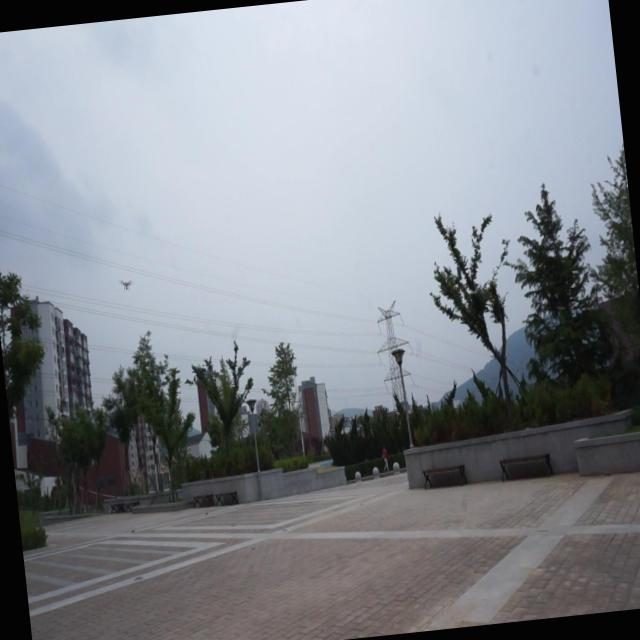drone: (114, 276, 137, 296)
